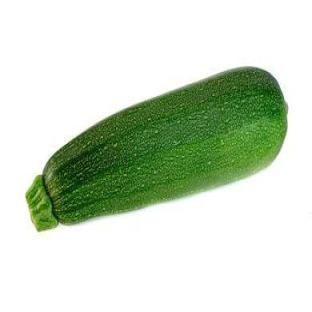Zucchini: (27, 68, 286, 230)
